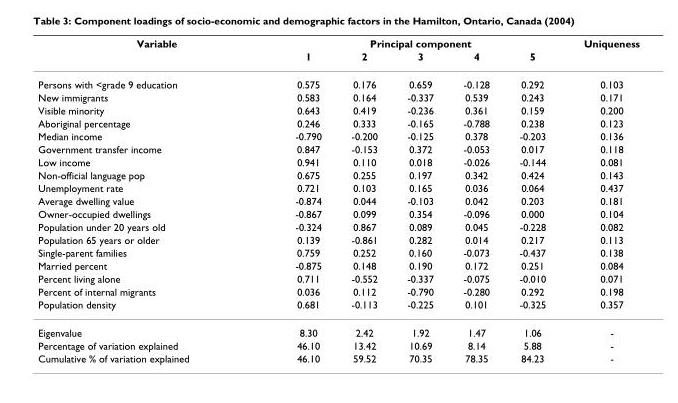table: (37, 36, 639, 363)
table column: (37, 36, 241, 363), (241, 36, 335, 363), (564, 36, 639, 363), (503, 36, 564, 363), (335, 36, 391, 363), (391, 36, 447, 363), (447, 36, 503, 363)
table column header: (37, 36, 639, 70)
table row: (37, 49, 639, 70), (37, 297, 639, 318), (37, 70, 639, 90), (37, 318, 639, 338), (37, 36, 639, 49), (37, 90, 639, 103), (37, 103, 639, 116), (37, 116, 639, 129), (37, 129, 639, 142), (37, 142, 639, 155), (37, 155, 639, 168), (37, 168, 639, 181), (37, 181, 639, 194), (37, 206, 639, 219), (37, 219, 639, 232), (37, 232, 639, 245), (37, 245, 639, 258), (37, 258, 639, 271), (37, 271, 639, 284), (37, 284, 639, 297), (37, 338, 639, 351), (37, 194, 639, 206), (37, 351, 639, 363)
table spanning cell: (37, 36, 241, 70), (241, 36, 564, 49), (564, 36, 639, 70)
